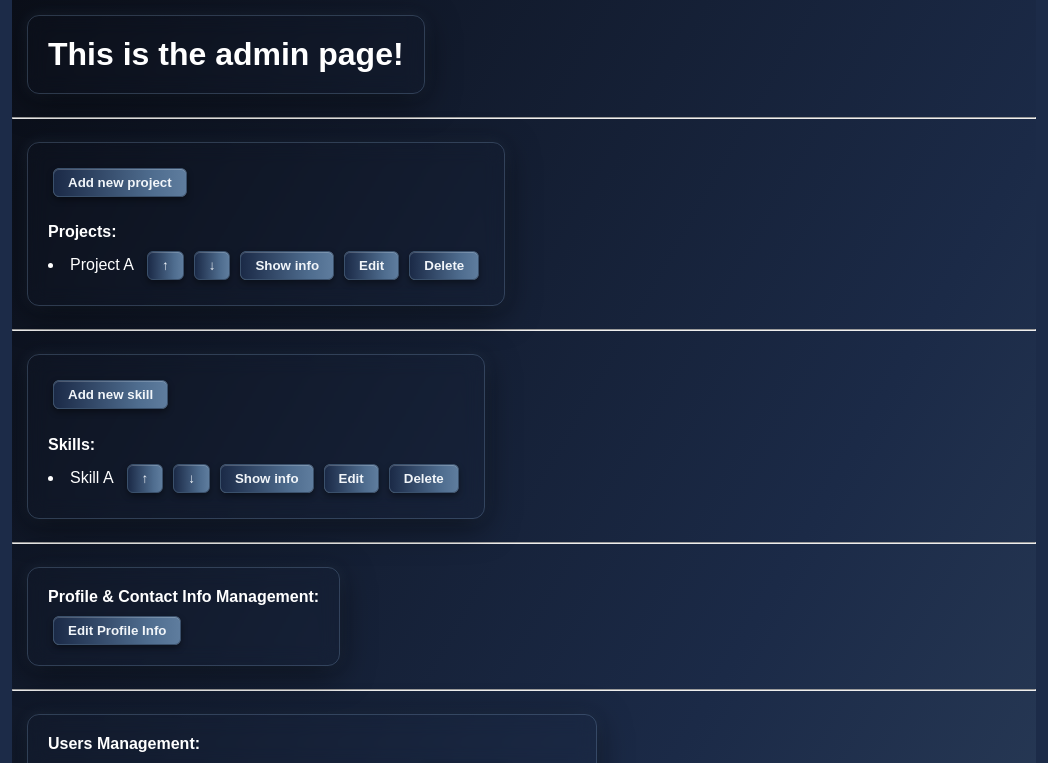
Scenario: AdminPage › toggles the project creation form visibility when clicking buttons
Click the button "Add new project": click(120, 182) [53, 168, 187, 197]
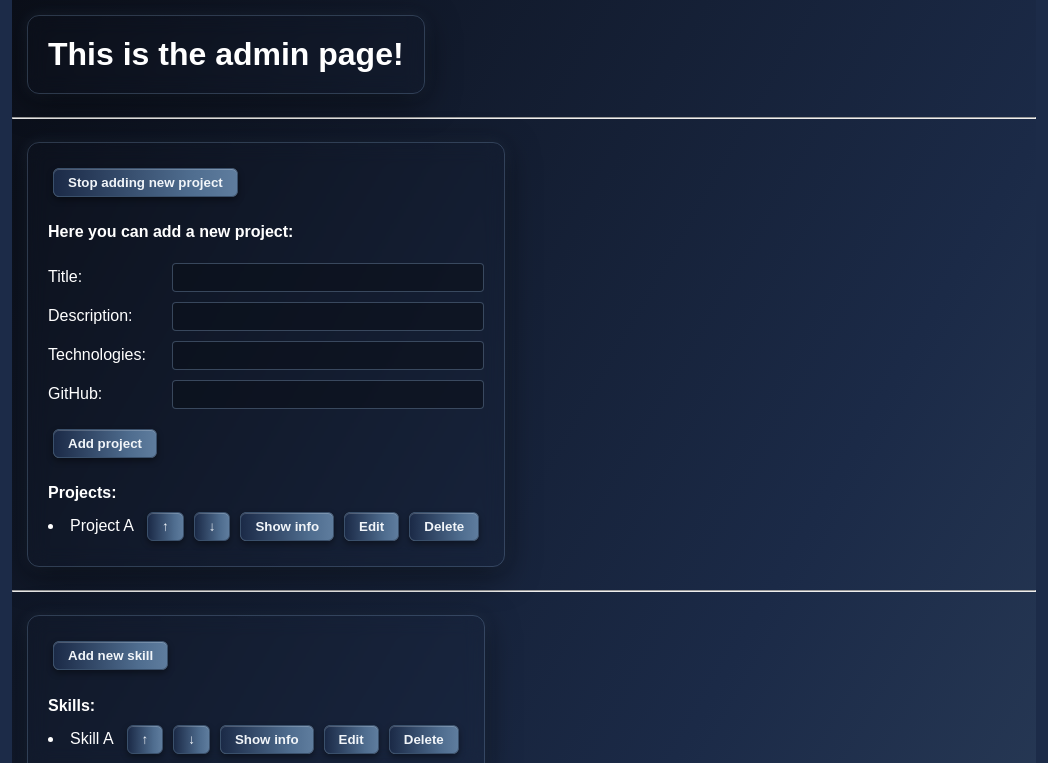
Now the heading "Here you can add a new project:" is shown, box [48, 223, 293, 240]
Click the button "Stop adding new project": click(145, 182) [53, 168, 238, 197]
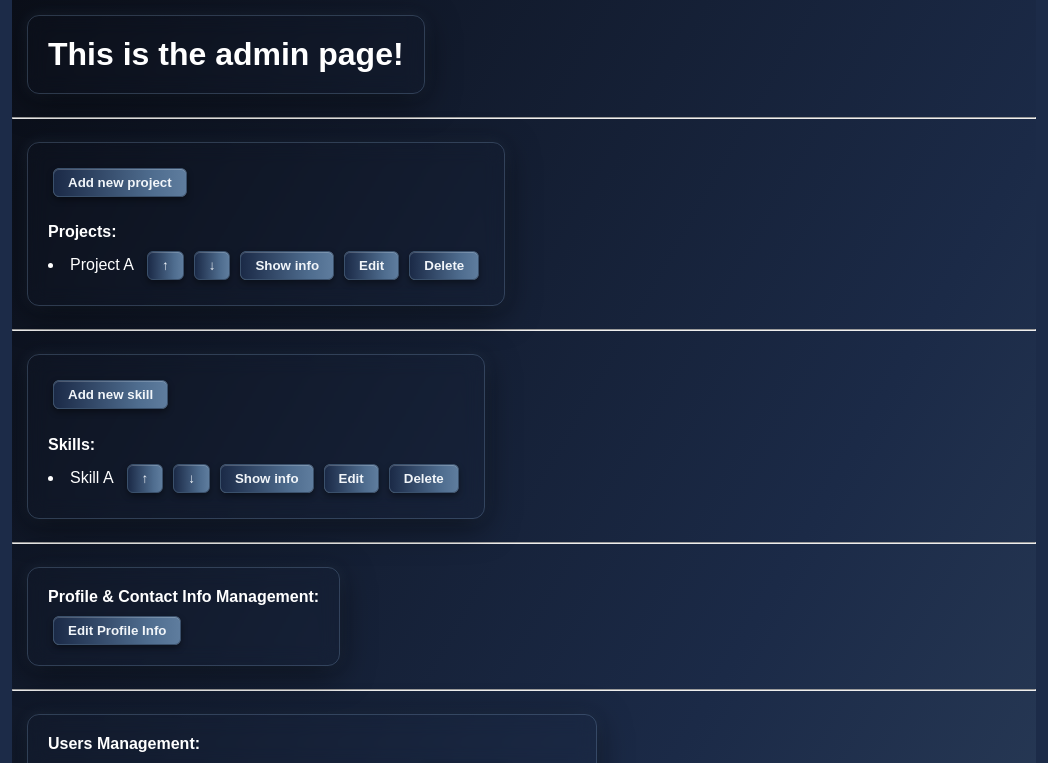
Now the heading "Here you can add a new project:" is gone
